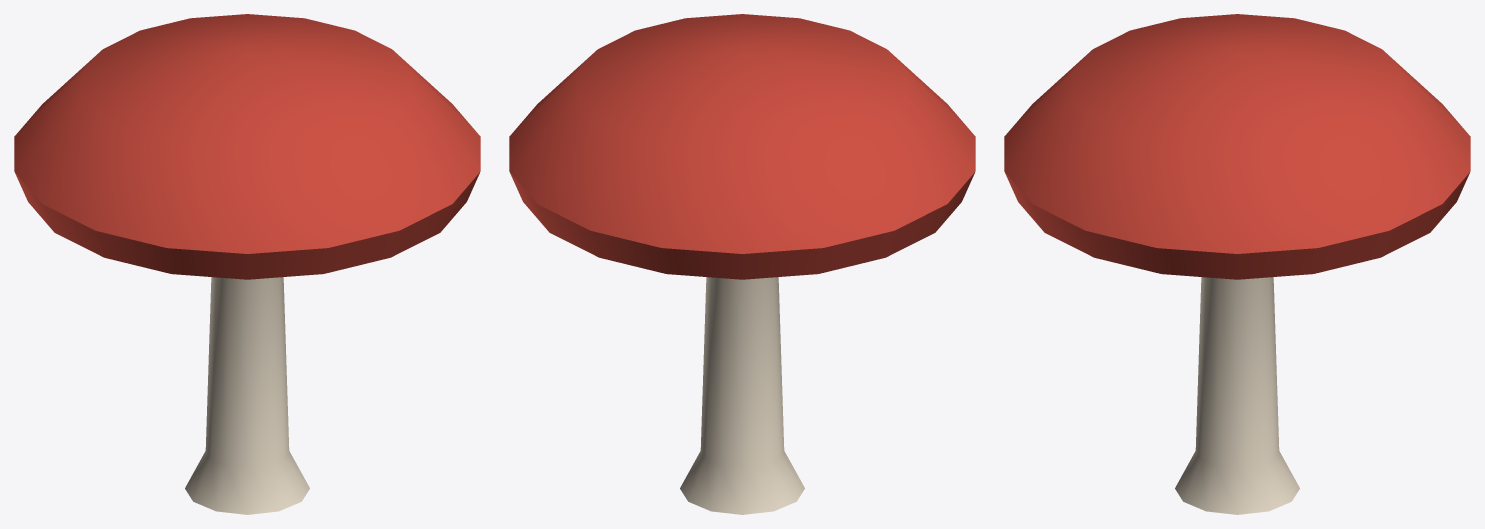
Rendered from baum_pilz.obj.
3 views of the same model, side by side, from view 1: azimuth 30°, elevation 25°; view 2: azimuth 150°, elevation 25°; view 3: azimuth 270°, elevation 25° (orthographic).
Parts seen in each view (by area): view 1: baum_pilz_Koerper; view 2: baum_pilz_Koerper; view 3: baum_pilz_Koerper.
Part boxes in pixels (x1,y1,x2,y2): baum_pilz_Koerper: (14,14,480,514); baum_pilz_Koerper: (509,14,975,514); baum_pilz_Koerper: (1004,14,1470,514).
Bounding box in the file's own units: 3.4 × 3.45 × 3.35.
